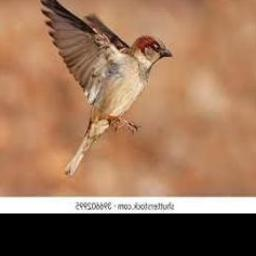Sparrow: (41, 0, 174, 175)
